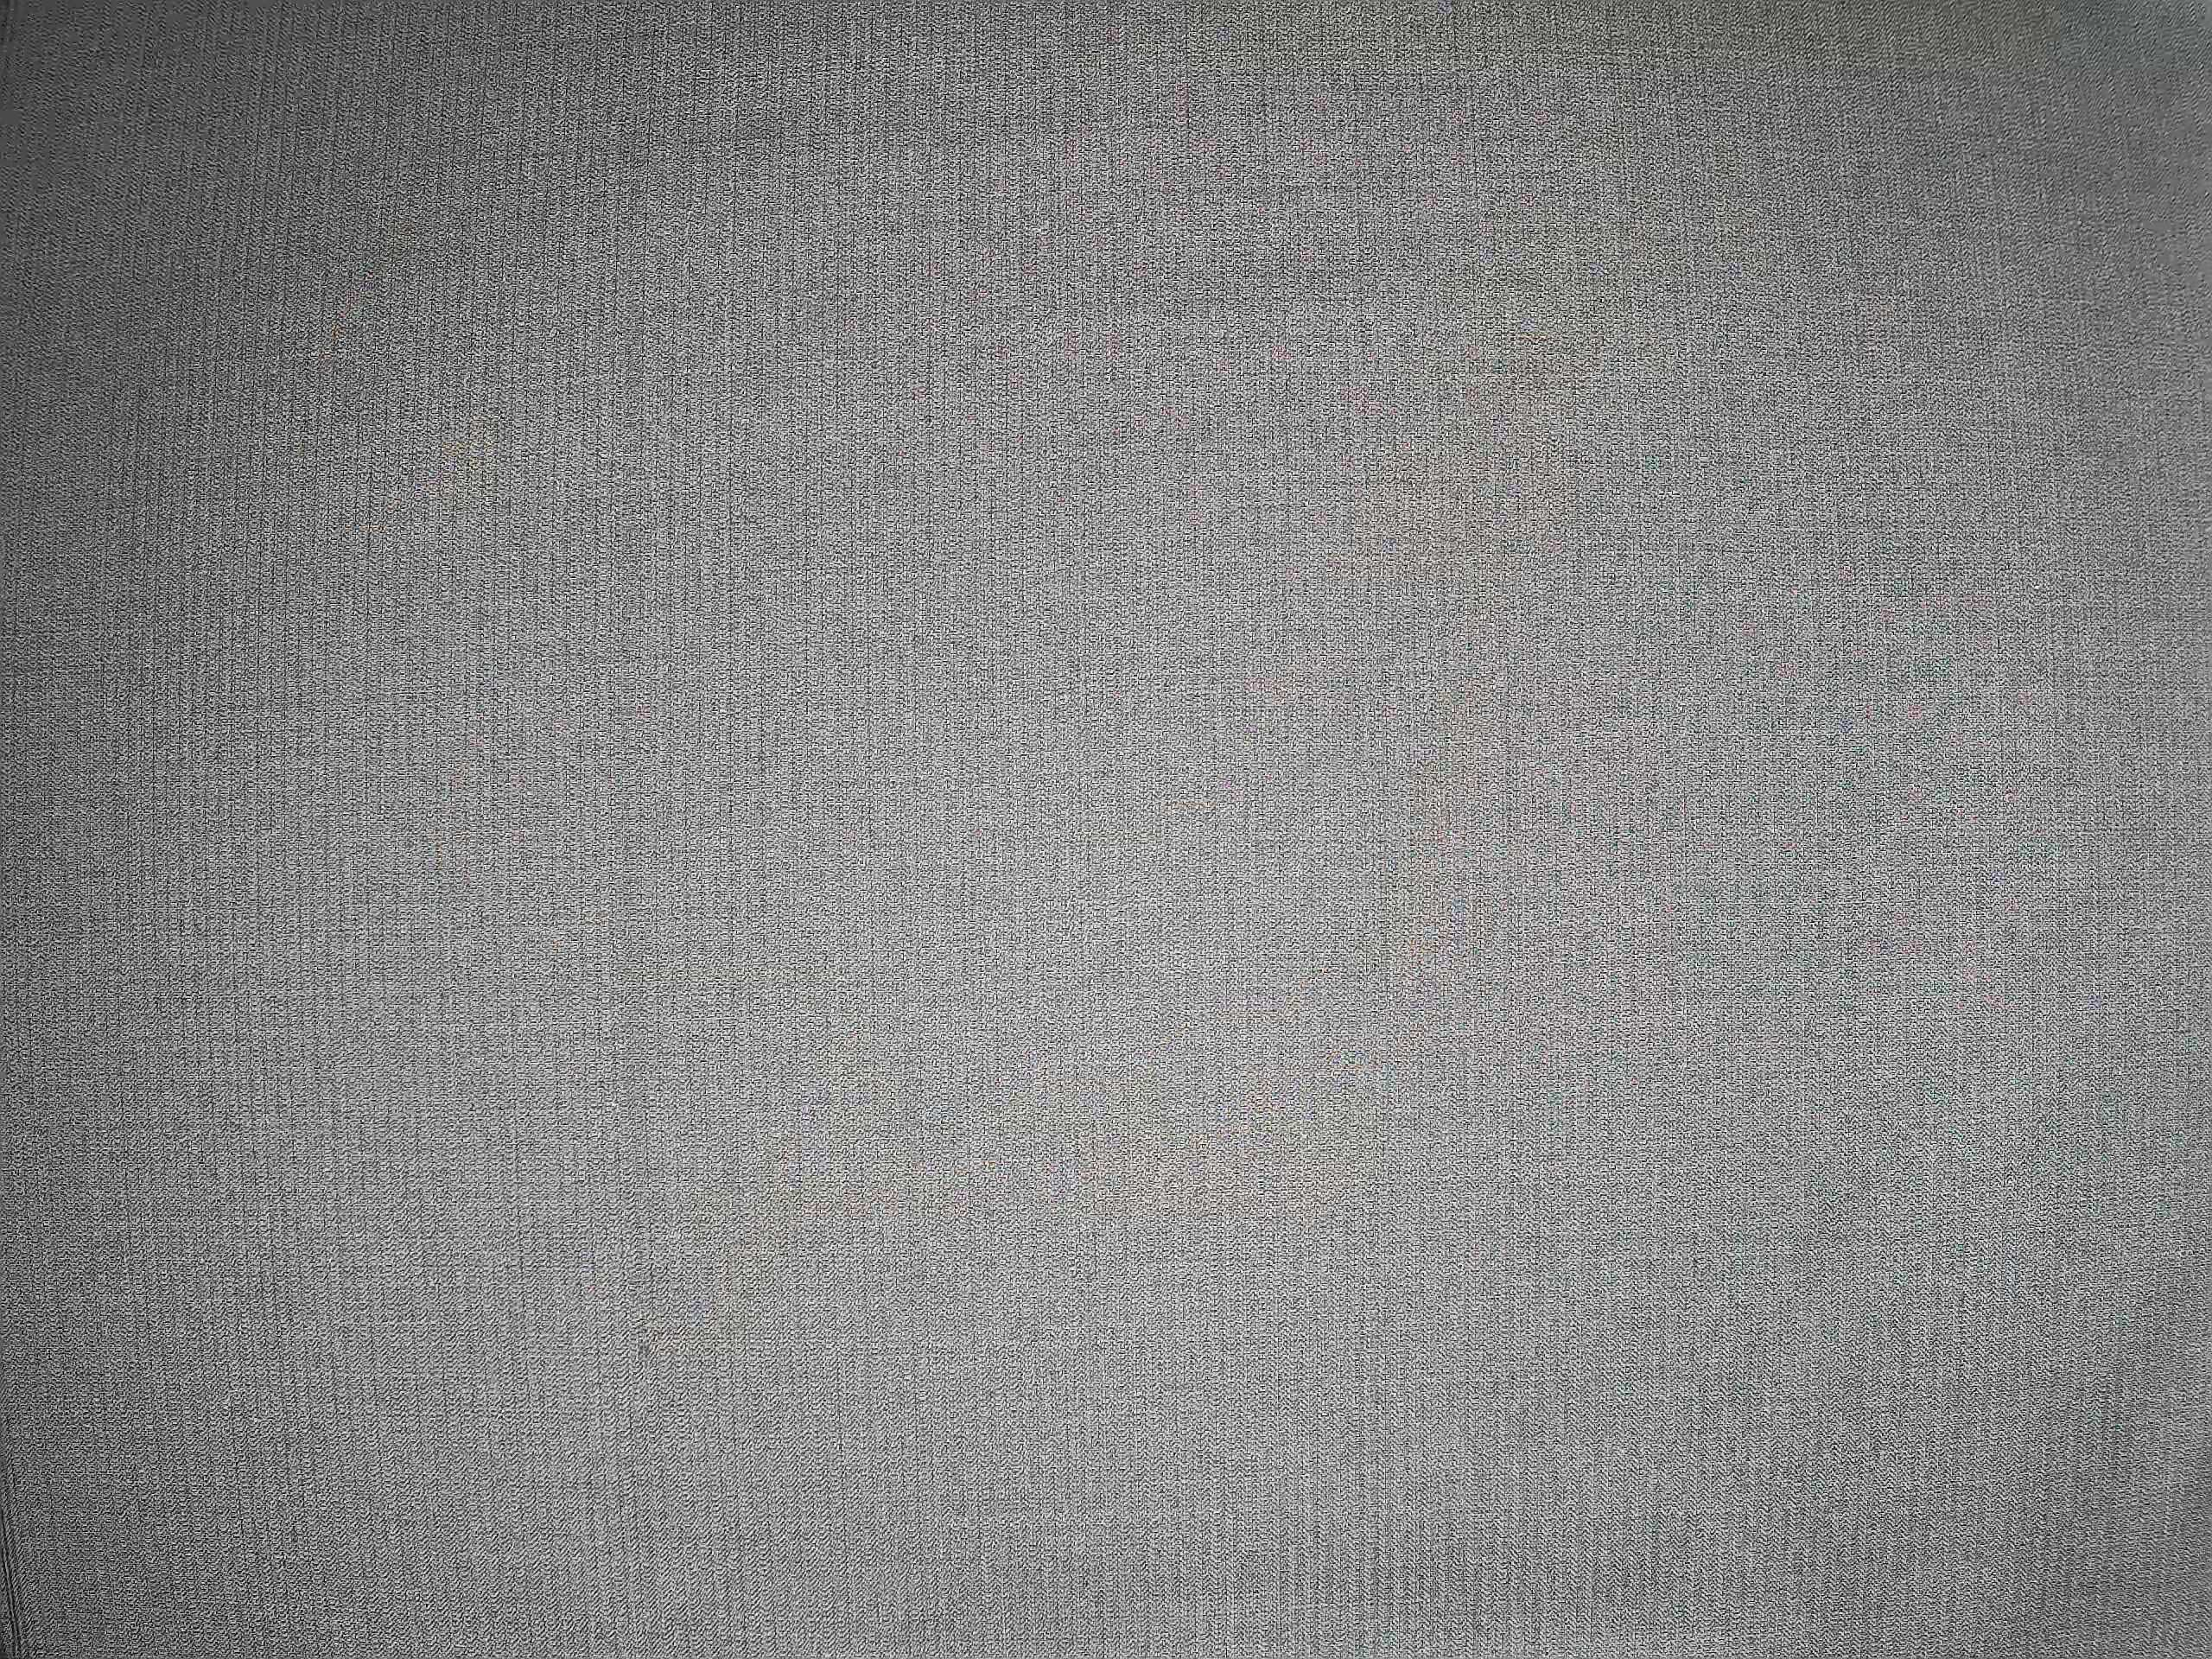hanging-warp: (587, 146, 695, 1561)
